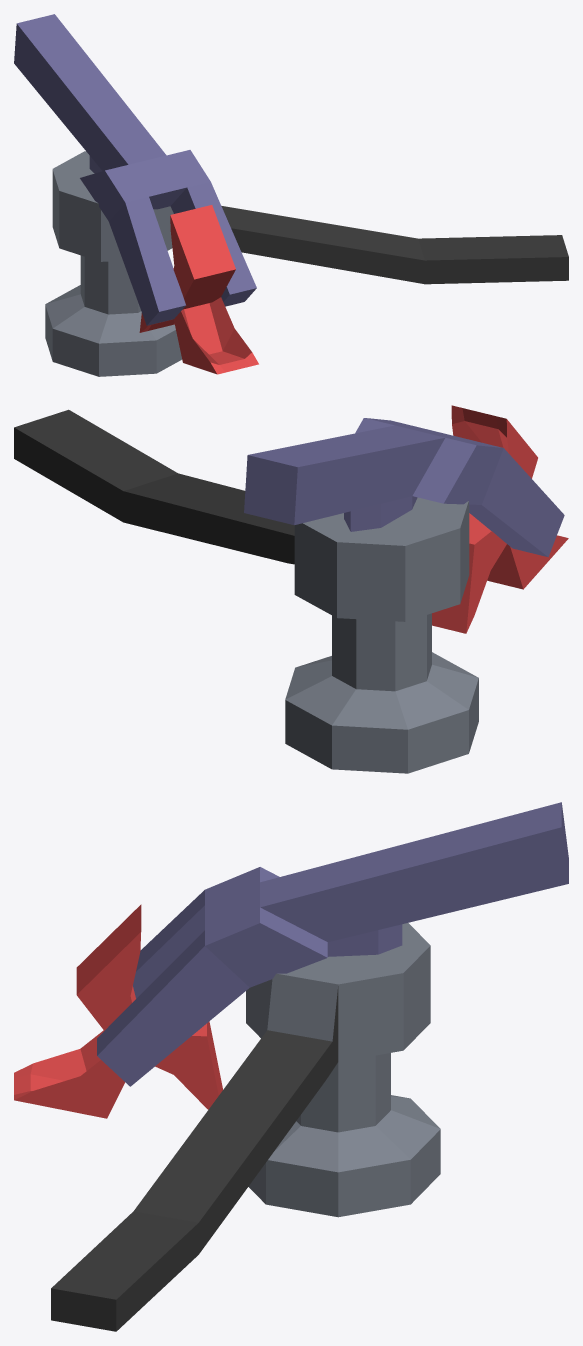
Rendered from BerezeniumMine.fbx.
3 views of the same model, one above another, from view 1: azimuth 30°, elevation 25°; view 2: azimuth 150°, elevation 25°; view 3: azimuth 270°, elevation 25° (orthographic). The views are drawn at different scales.
Parts seen in each view (by area): view 1: Loader, Lapka, Kovsh; view 2: Loader, Lapka, Kovsh; view 3: Loader, Lapka, Kovsh.
Part boxes in pixels (x1,y1,x2,y2): Loader: (45, 151, 568, 376); Lapka: (14, 14, 256, 325); Kovsh: (139, 205, 258, 374); Loader: (14, 409, 478, 773); Lapka: (244, 418, 564, 557); Kovsh: (432, 405, 568, 633); Loader: (51, 923, 440, 1331); Lapka: (97, 802, 568, 1086); Kovsh: (14, 904, 222, 1118).
Bounding box in the file's own units: 1040 × 620 × 868.
